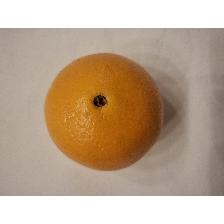Orange: (43, 51, 166, 172)
